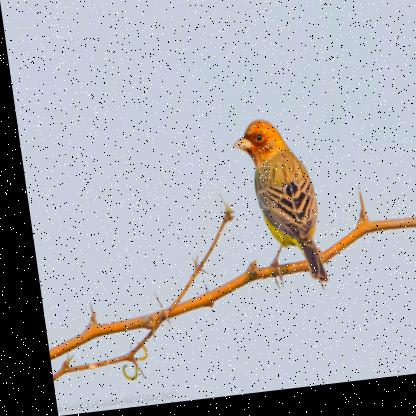Burung: (222, 118, 323, 300)
